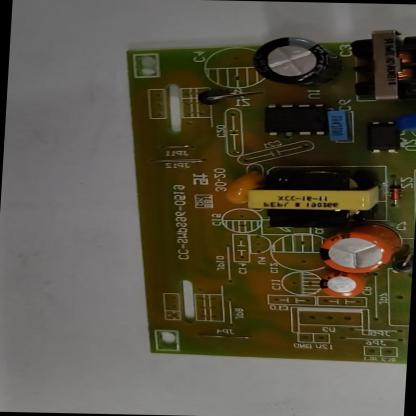Cap1: (316, 229, 396, 275)
Cap2: (316, 272, 367, 299)
Cap3: (257, 38, 338, 84)
MOSFET: (266, 102, 324, 136)
Mov: (396, 112, 416, 133)
Transformer: (247, 168, 379, 231), (356, 28, 415, 102)
